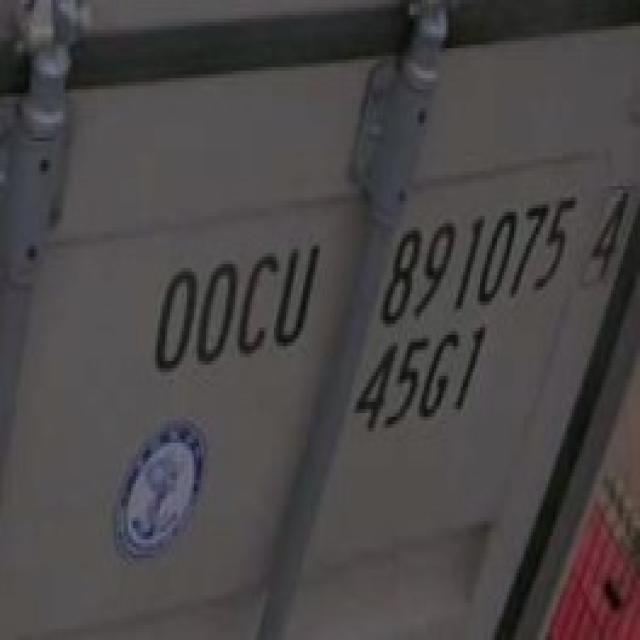dv: (588, 175, 630, 292)
owner: (149, 223, 324, 384)
serial: (372, 183, 572, 331)
size: (352, 324, 494, 451)
